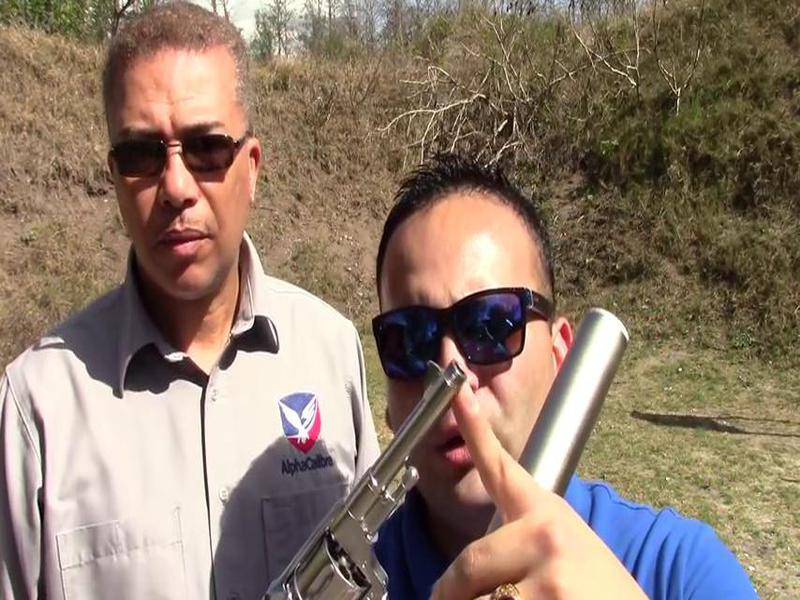Revolver: (231, 344, 498, 600)
